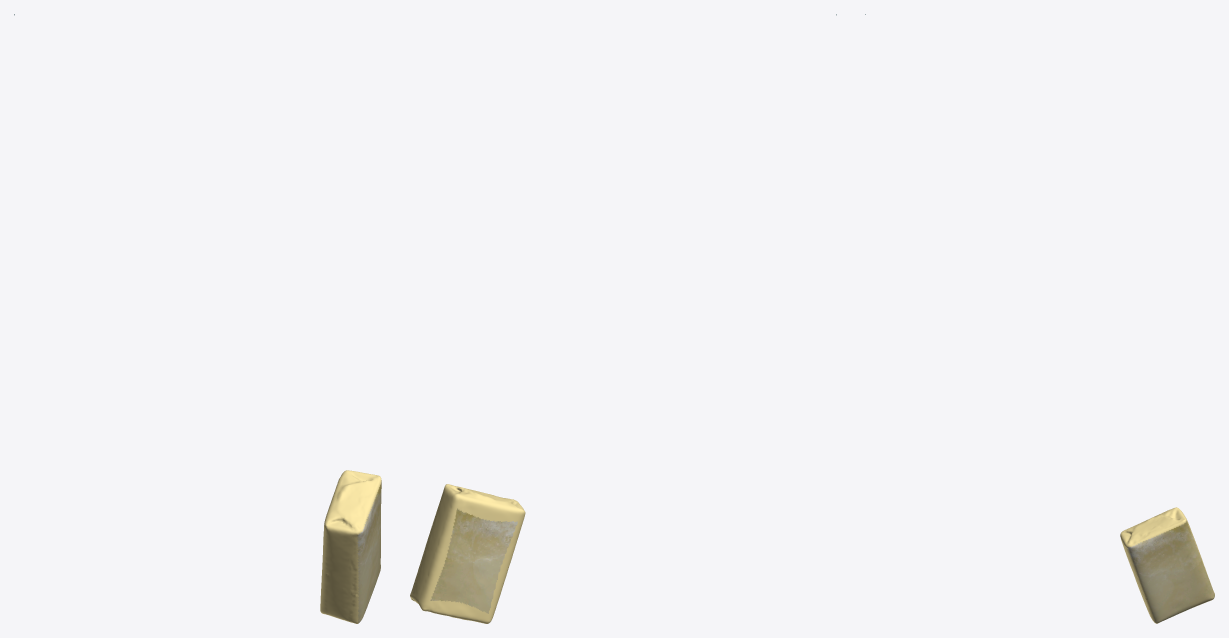
Rendered from Soap.FBX.
3 renders of one model, left to right at view 1: azimuth 30°, elevation 25°; view 2: azimuth 150°, elevation 25°; view 3: azimuth 330°, elevation 25°, orthographic. The views are drawn at different scales.
Visible parts, largest first — view 1: node_id6; view 2: node_id6; view 3: node_id6.
Boxes of the visible parts, x1,y1,x2,y2 form: node_id6: [320, 470, 381, 623]; node_id6: [410, 484, 525, 623]; node_id6: [1120, 507, 1214, 623].
Size of the model in its own units: 0.3079 by 0.512 by 0.0775.
3 materials, 1 textured.
